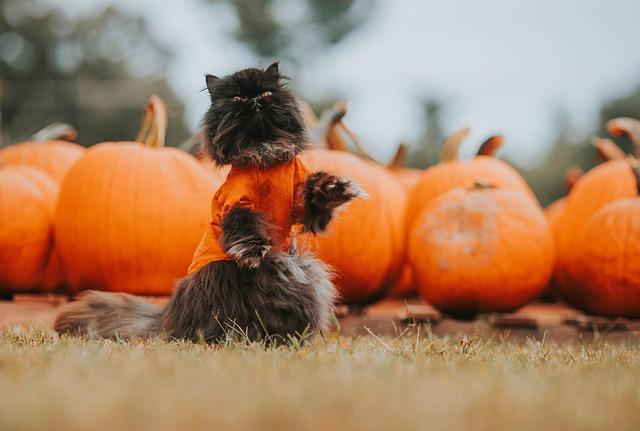Non_Gorille: (51, 3, 640, 365)
